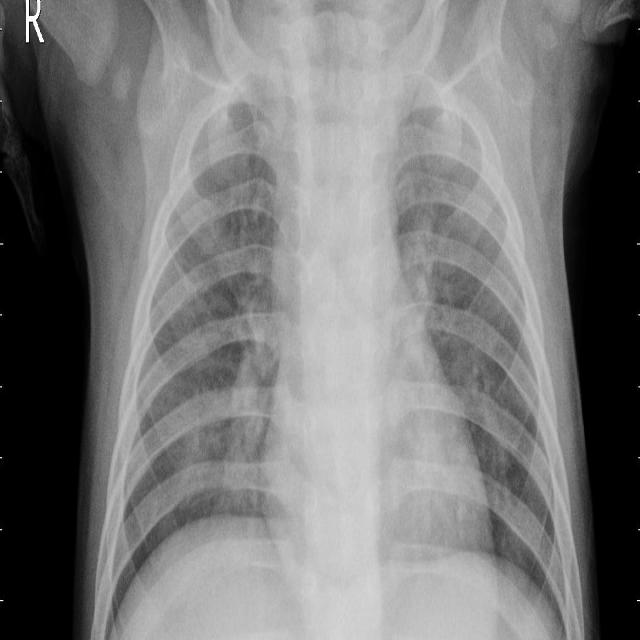high-pneumonia: (389, 32, 473, 178), (220, 27, 287, 187)
low-pneumonia: (217, 298, 275, 525), (400, 200, 461, 373)
